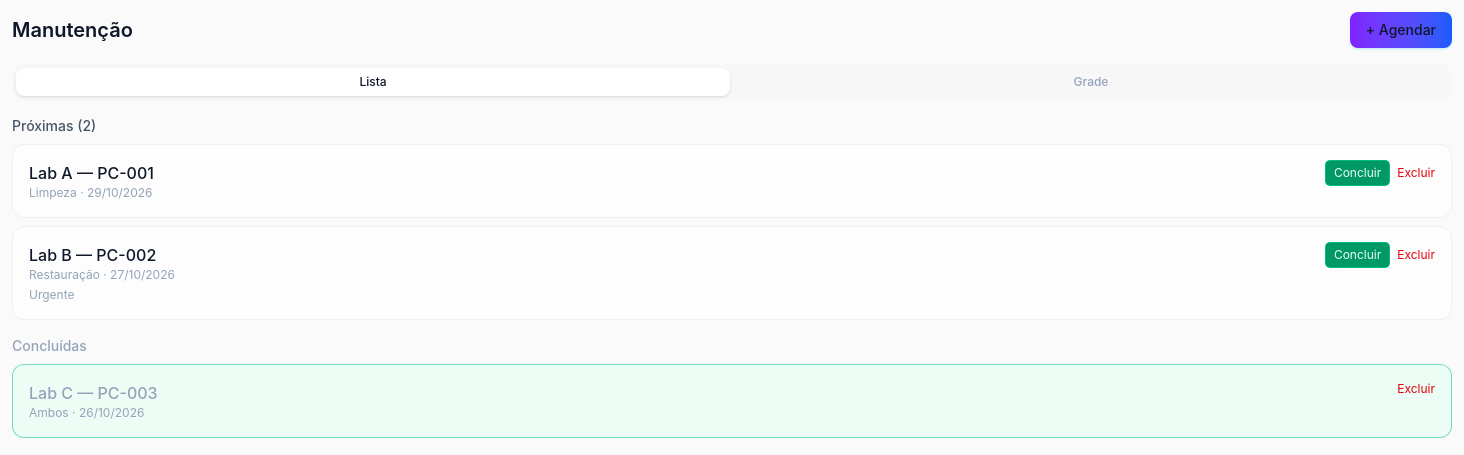
it: Maintenance › alterna para calendário
Click the button "Grade" at (1091, 82), box 734,68 -> 1448,96
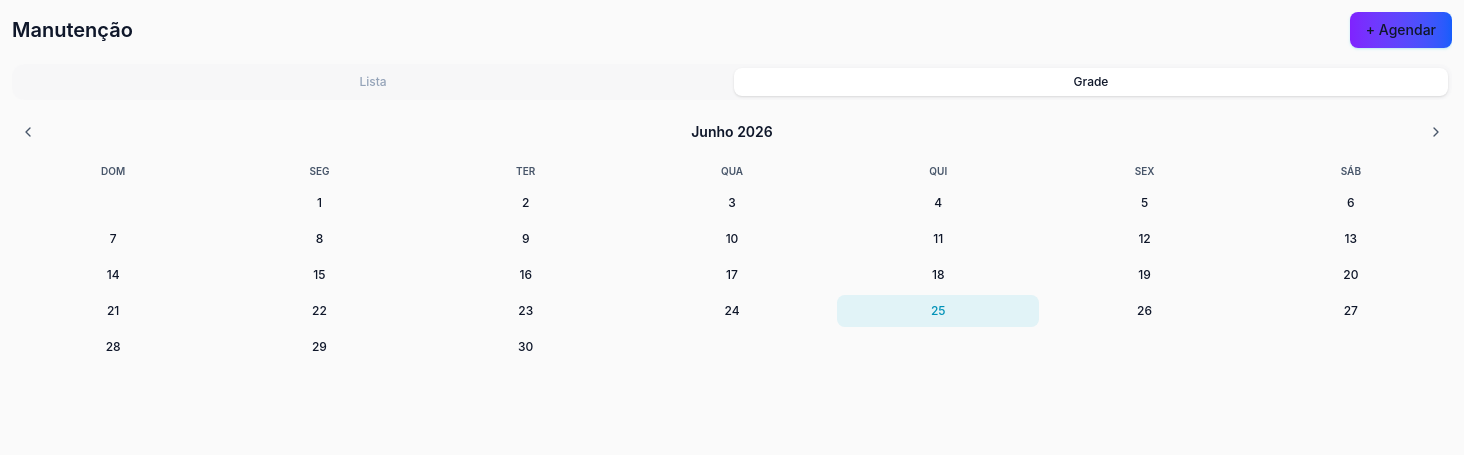
Check: the text "Dom" is shown, box 101,165 -> 125,177
Check: the text "Seg" is shown, box 309,165 -> 330,177
